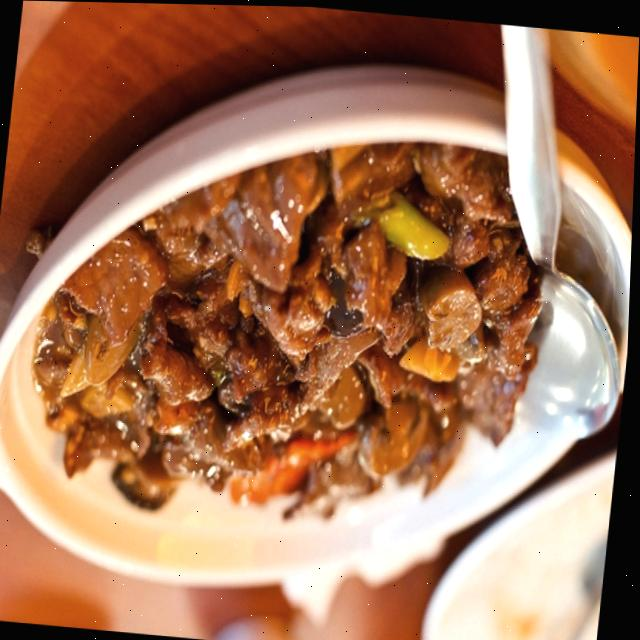牛肉菜式: (9, 84, 583, 582)
